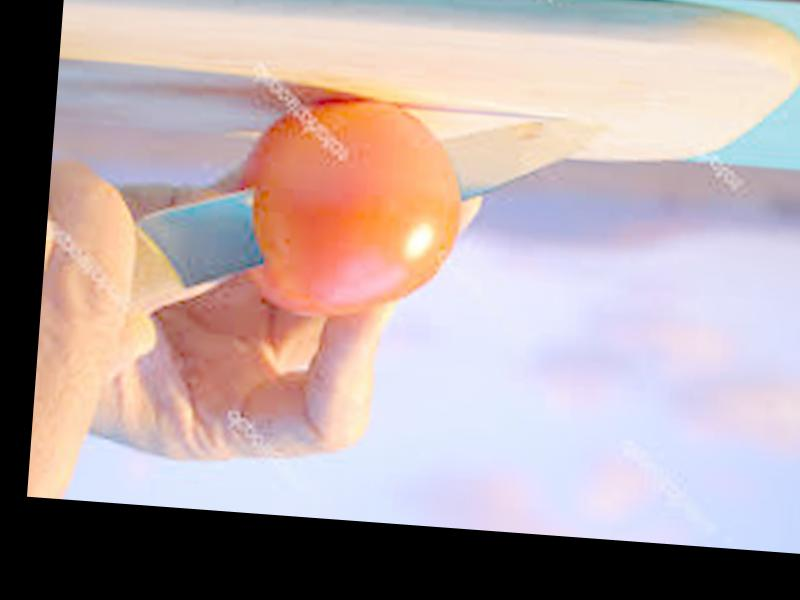Tomato: (230, 87, 471, 323)
